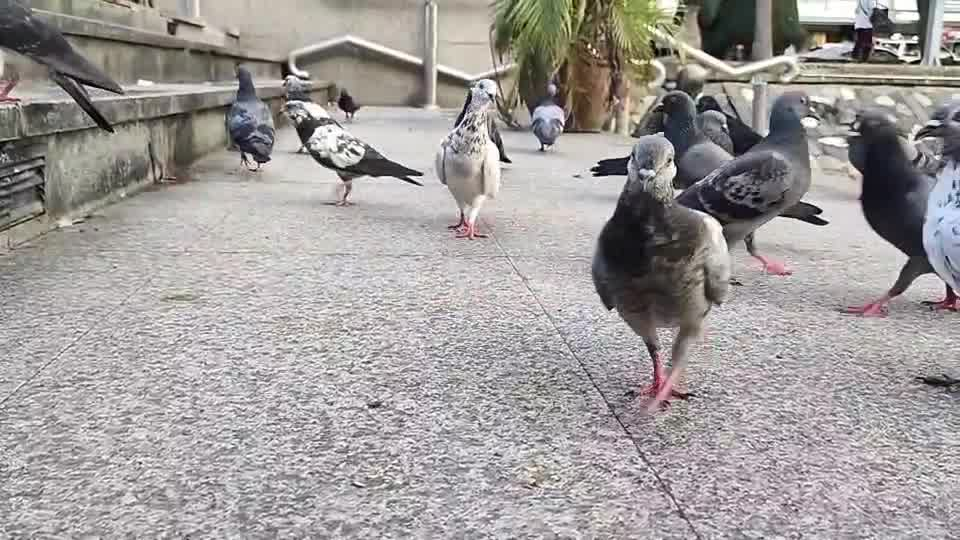Pigeon: (589, 131, 731, 415), (673, 90, 828, 282), (838, 108, 952, 317), (0, 0, 125, 134), (277, 98, 424, 207), (434, 82, 504, 240), (912, 103, 959, 312), (224, 64, 276, 172), (452, 77, 513, 163), (529, 102, 566, 152), (336, 87, 360, 120)
